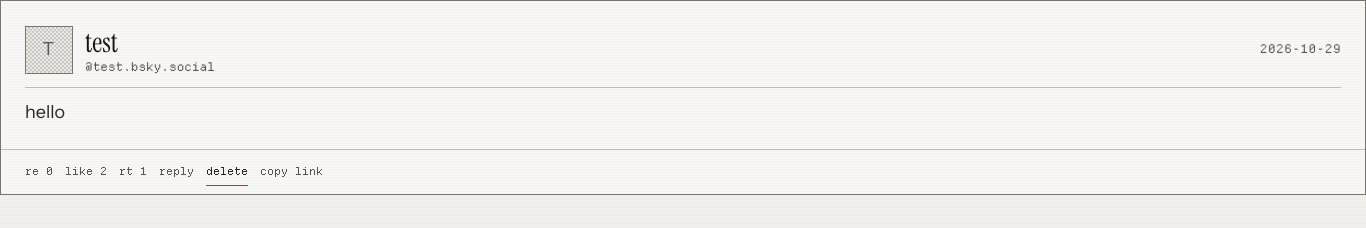
Test case: PostCard actions › shows the action failure and allows another attempt
The width and height of the screenshot is (1366, 228).
Click the button with aria-label "like, 2": (86, 172) [65,158,107,186]
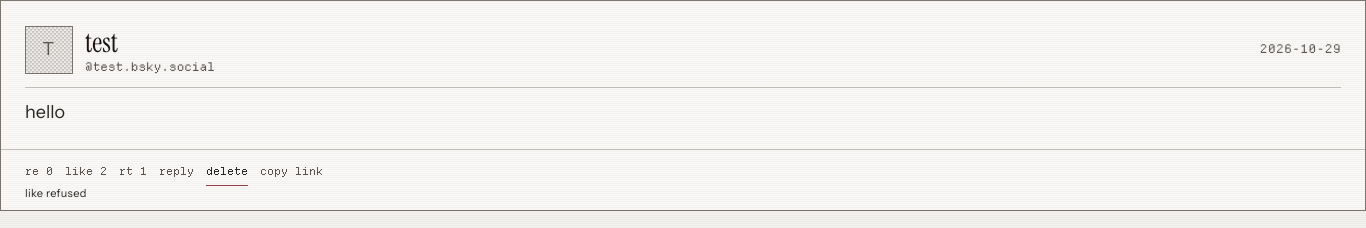
Now the message reads "like refused", box [25,186,87,200]
Click the button with aria-label "like, 2": (86, 172) [65,158,107,186]
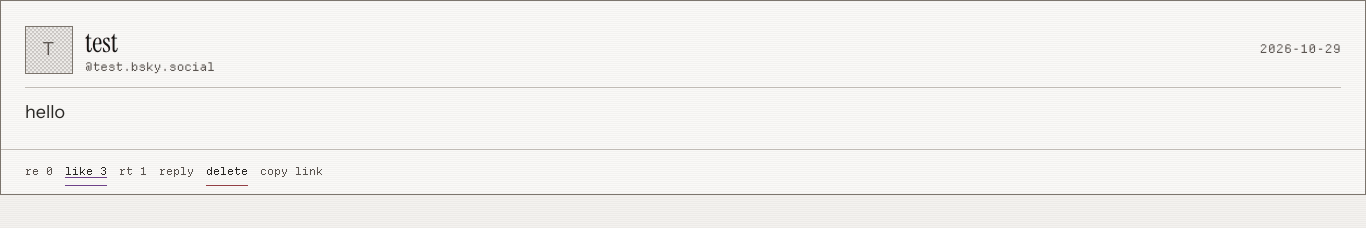
Now the button with aria-label "like, 3" is shown, box [65,158,107,186]
Now the message "like refused" is gone
